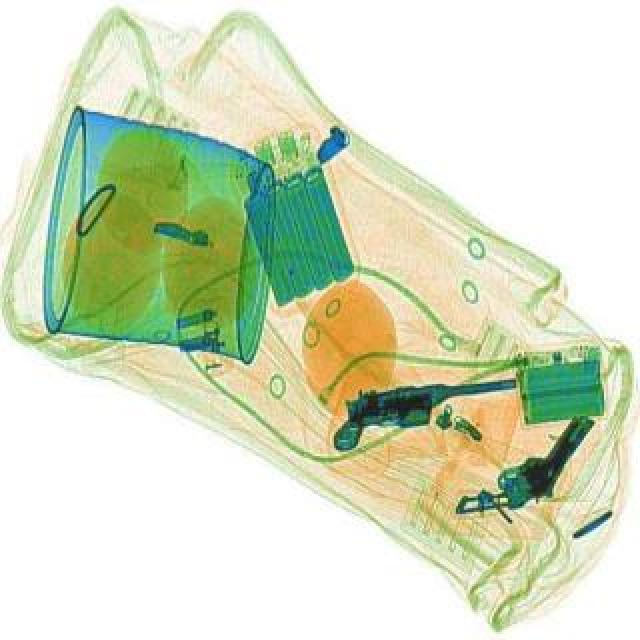gun: (450, 390, 610, 548), (326, 370, 526, 452)
